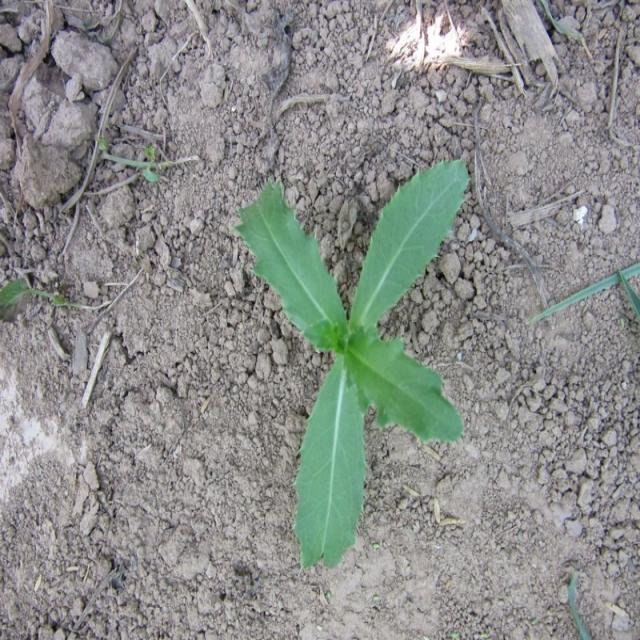cs: (232, 155, 480, 573)
